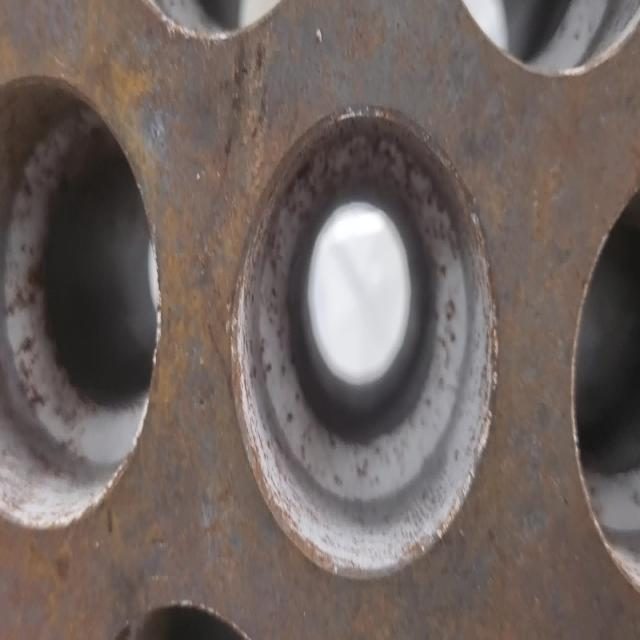Hole: (229, 108, 499, 640), (2, 70, 160, 536)
